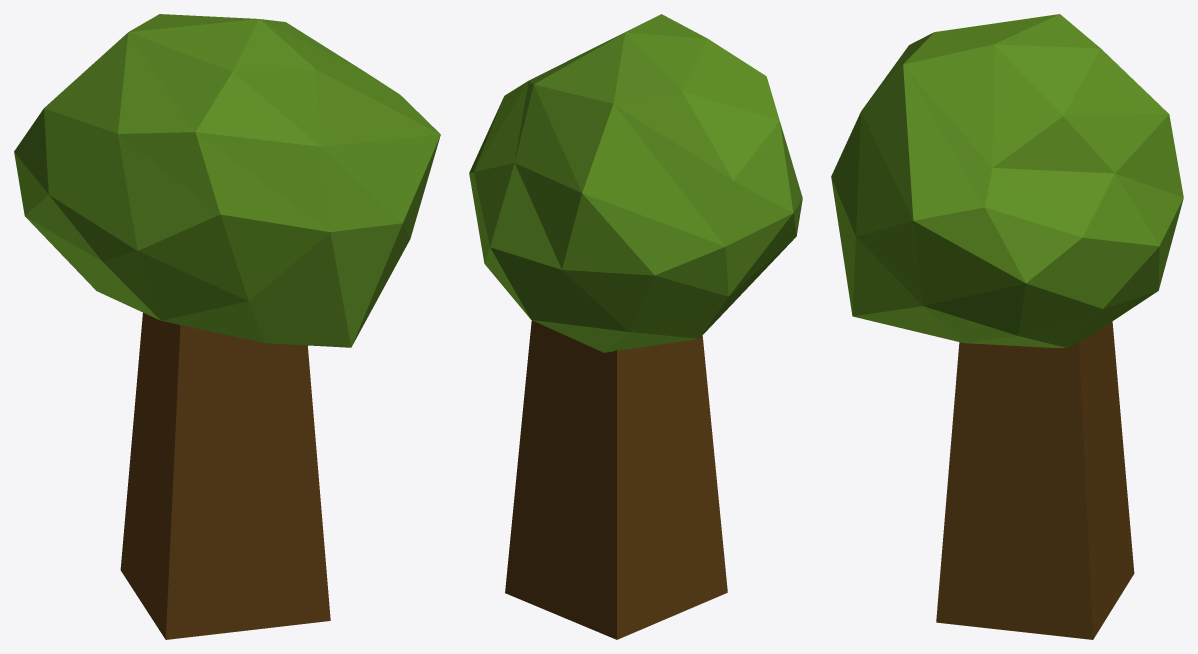
File: armygametree_old.dae
3 views of the same model, side by side, from view 1: azimuth 30°, elevation 25°; view 2: azimuth 150°, elevation 25°; view 3: azimuth 270°, elevation 25° (orthographic). The views are drawn at different scales.
Parts seen in each view (by area): view 1: Icosphere_059, Cube_009; view 2: Icosphere_059, Cube_009; view 3: Icosphere_059, Cube_009.
Boxes of the visible parts, x1,y1,x2,y2 form: Icosphere_059: (14, 14, 440, 347); Cube_009: (120, 312, 330, 639); Icosphere_059: (469, 14, 802, 352); Cube_009: (505, 320, 727, 639); Icosphere_059: (831, 14, 1183, 347); Cube_009: (936, 321, 1134, 639).
Size of the model in its own units: 0.4471 by 0.4121 by 0.721.
